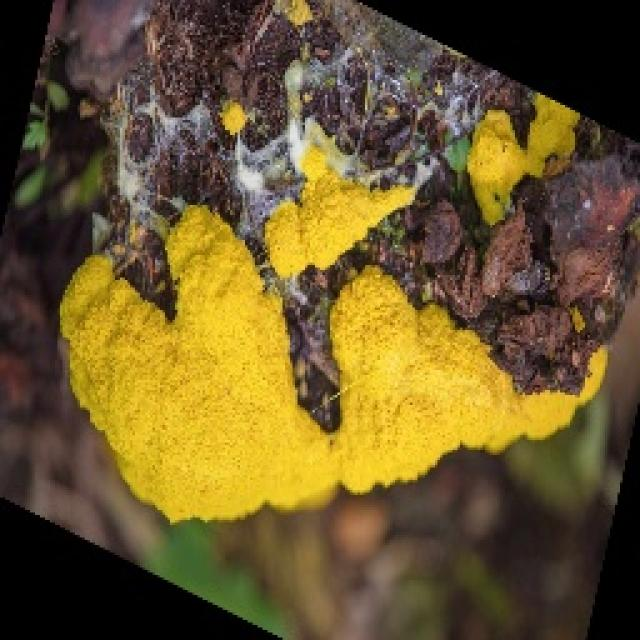Dog_vomit_slime_mold: (30, 11, 627, 526)
